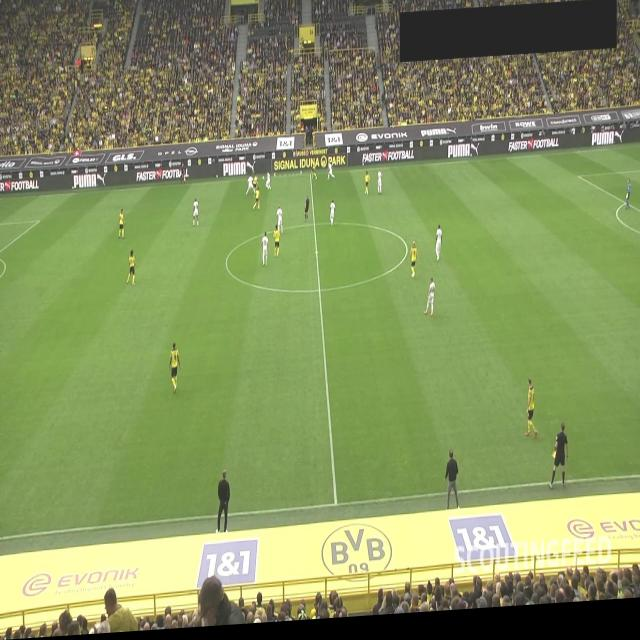goalkeeper: (624, 187, 632, 219)
player: (524, 385, 538, 448), (169, 345, 181, 397), (424, 282, 436, 323), (126, 250, 136, 287), (260, 235, 270, 271), (410, 246, 418, 285), (435, 230, 443, 268), (272, 228, 280, 261), (275, 208, 283, 239), (246, 178, 256, 200), (252, 187, 260, 214), (118, 210, 125, 240), (310, 162, 318, 185), (252, 177, 260, 199), (193, 200, 199, 229), (330, 202, 336, 231), (327, 164, 335, 184), (377, 174, 383, 200), (364, 176, 370, 200), (265, 176, 271, 194)
referee: (549, 427, 569, 498), (304, 200, 310, 226), (180, 163, 186, 187)
